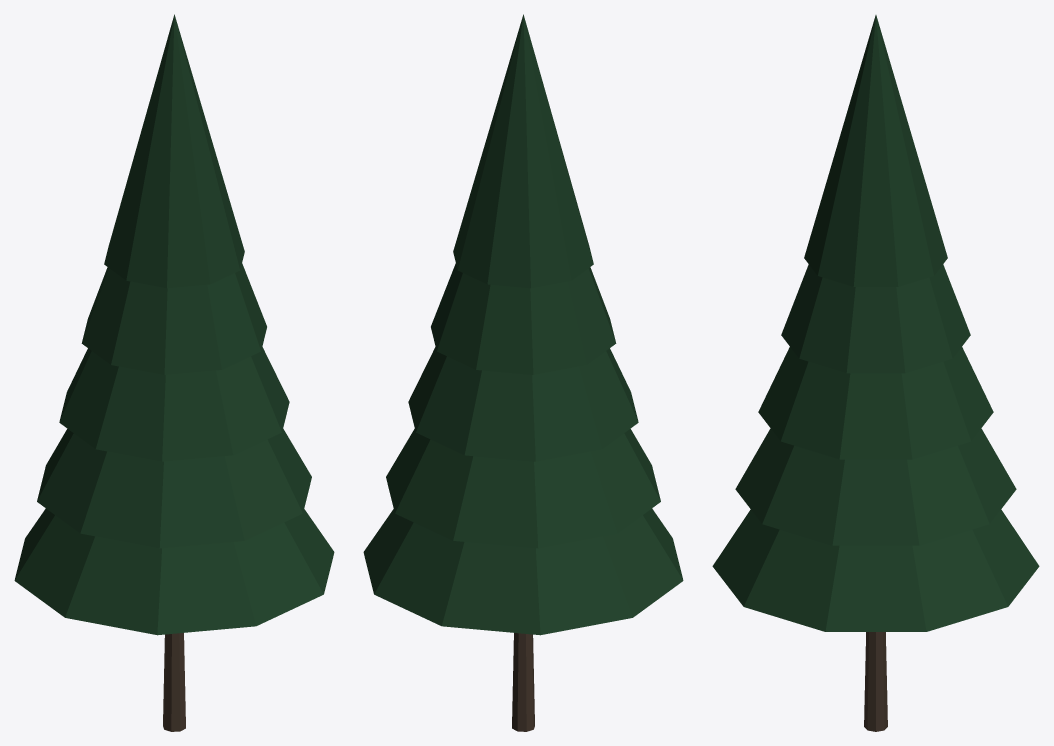
Rendered from SM_Cam_A.fbx.
3 renders of one model, left to right at view 1: azimuth 30°, elevation 25°; view 2: azimuth 150°, elevation 25°; view 3: azimuth 270°, elevation 25°, orthographic.
Parts seen in each view (by area): view 1: Cam_A; view 2: Cam_A; view 3: Cam_A.
Part boxes in pixels (<box>): Cam_A: <box>14,14,334,731</box>; Cam_A: <box>363,14,683,731</box>; Cam_A: <box>712,15,1039,731</box>.
Size of the model in its own units: 571 by 1443 by 600.
